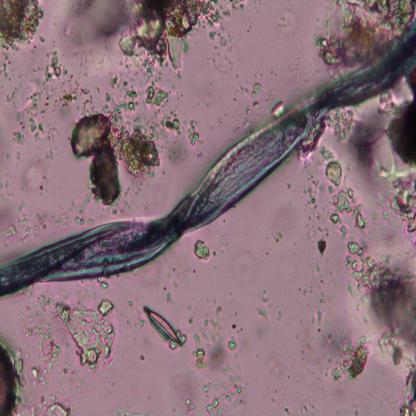Background material: (349, 241, 416, 414), (330, 103, 416, 234), (63, 98, 163, 210), (62, 0, 221, 64), (312, 0, 416, 70), (305, 148, 371, 250), (8, 54, 80, 143), (189, 305, 245, 413), (304, 304, 370, 388), (56, 298, 119, 370), (0, 138, 52, 202), (101, 75, 167, 115), (0, 0, 48, 51), (159, 106, 200, 162), (26, 318, 58, 384), (0, 206, 58, 240), (302, 260, 337, 309), (205, 29, 239, 72), (115, 288, 141, 336), (55, 200, 96, 228), (258, 284, 282, 326), (262, 353, 290, 388), (263, 212, 286, 246), (33, 395, 72, 415), (228, 65, 249, 99), (278, 11, 304, 38), (221, 0, 250, 21), (246, 78, 266, 108), (161, 277, 178, 302), (194, 240, 212, 262), (282, 177, 293, 191), (138, 352, 146, 364)
Cotton: (0, 24, 416, 298)
Diatom: (146, 306, 182, 345), (0, 347, 18, 412)
